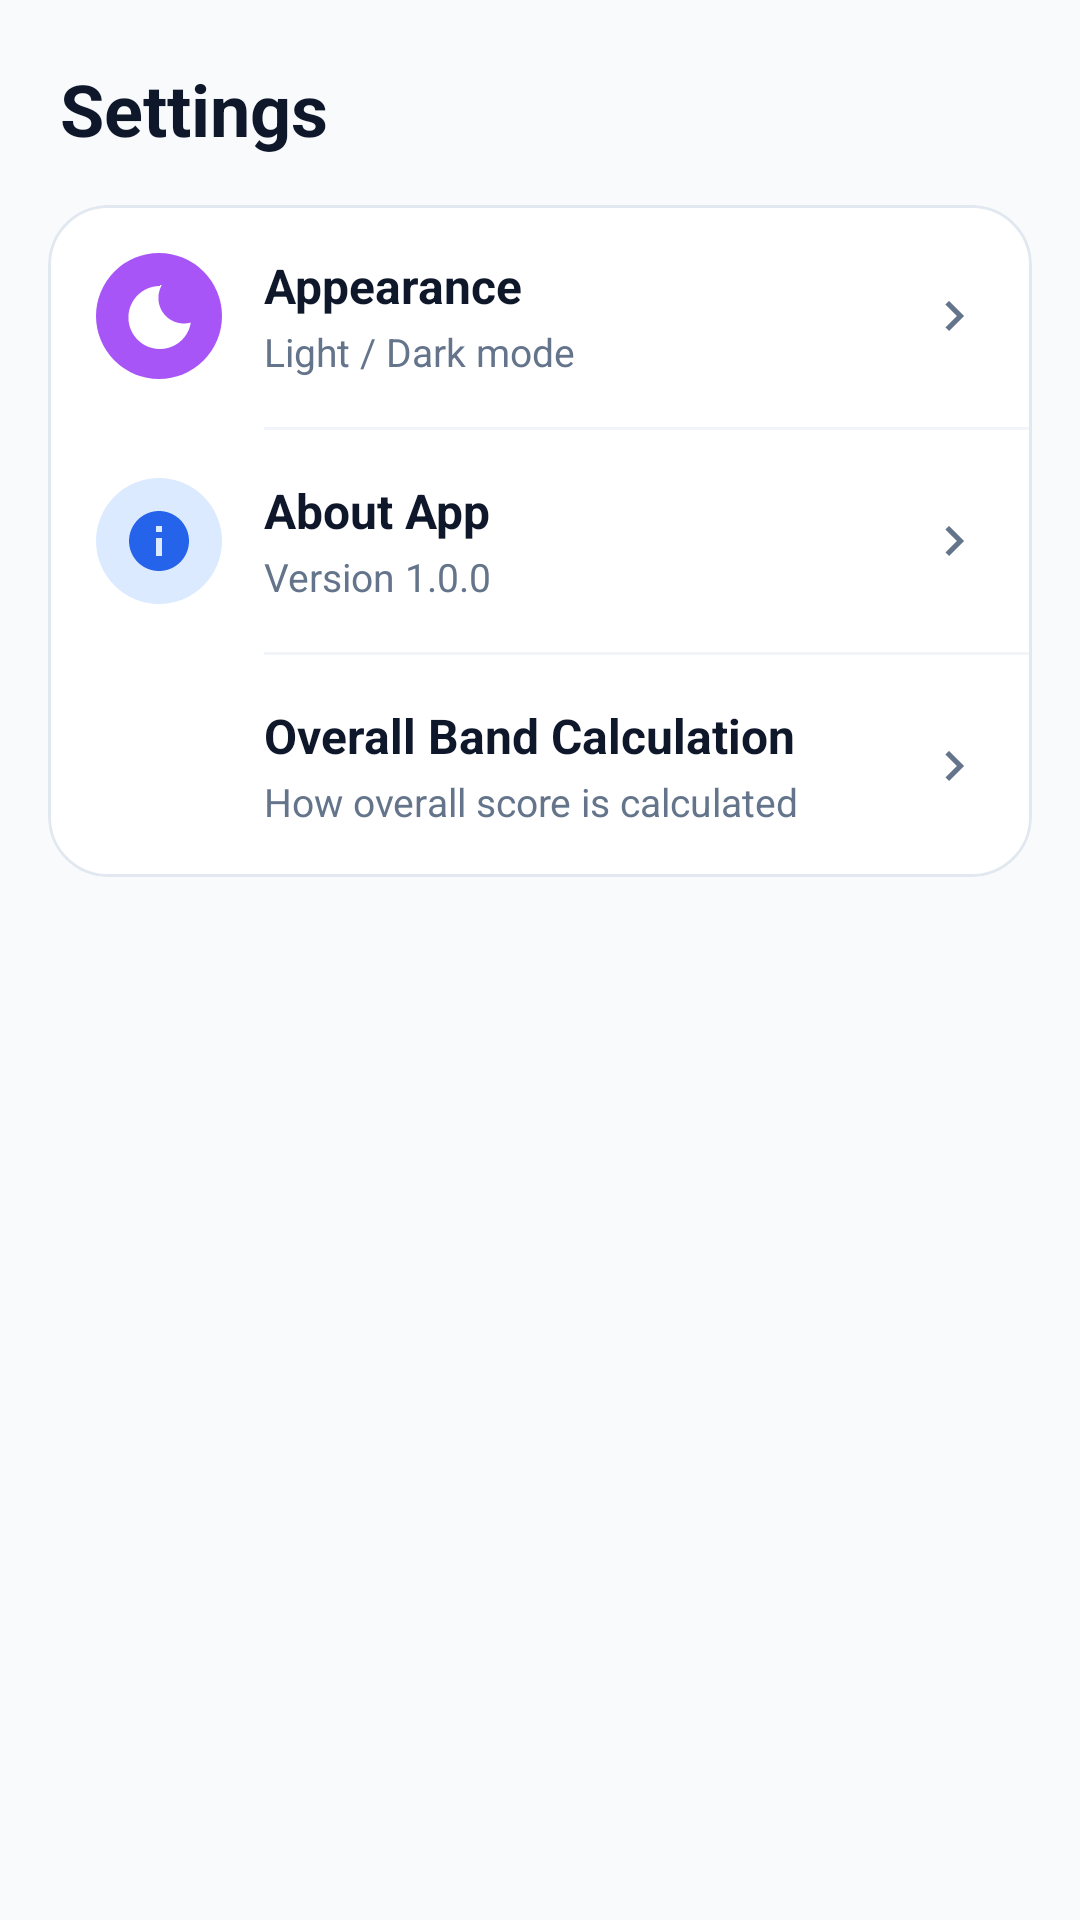

Where to tap for icons on this 1080 × 1920 app screen, as (x=x, y=y):
chevron right: (x=954, y=316), (x=954, y=541), (x=954, y=766)
info: (x=159, y=541)
moon: (x=159, y=316)
